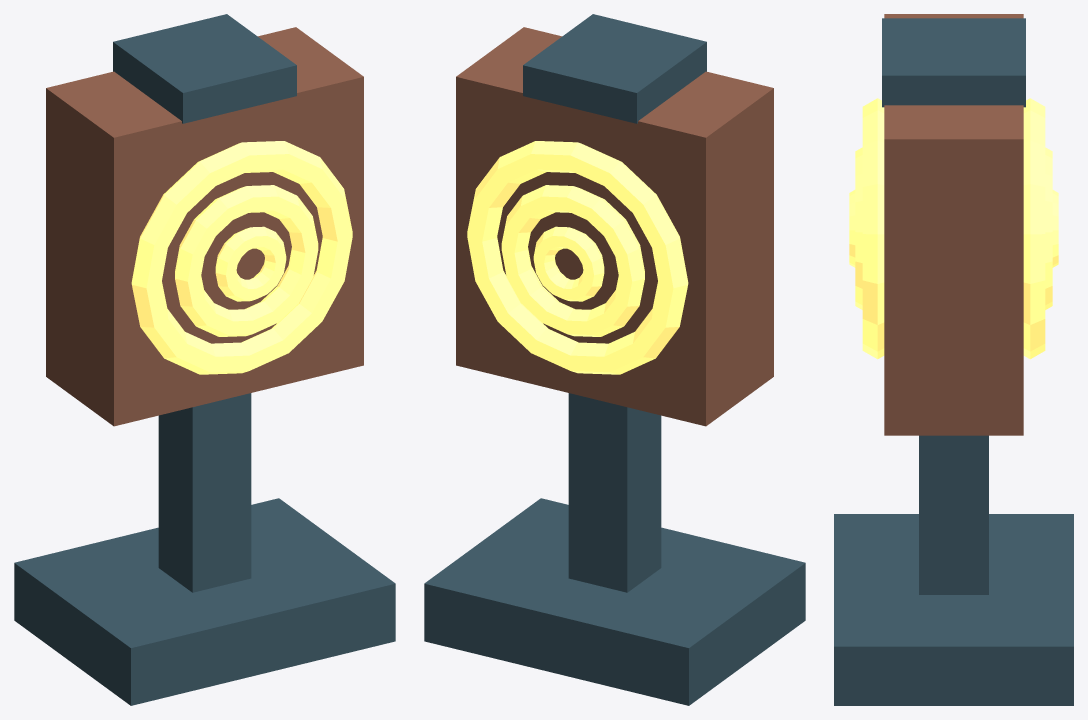
Rendered from practice_dummy.glb.
3 views of the same model, side by side, from view 1: azimuth 30°, elevation 25°; view 2: azimuth 150°, elevation 25°; view 3: azimuth 270°, elevation 25° (orthographic). The views are drawn at different scales.
Visible parts, largest first — view 1: Target pad, Pedestal, Target ring, Spring post, Top marker, Target ring.001, Target ring.002; view 2: Target pad, Pedestal, Target ring.003, Spring post, Top marker, Target ring.004, Target ring.005; view 3: Target pad, Pedestal, Top marker, Spring post, Target ring, Target ring.003, Target ring.001, Target ring.004, Target ring.002, Target ring.005.
Boxes of the visible parts, x1,y1,x2,y2 form: Target pad: [46, 27, 363, 426]; Pedestal: [14, 498, 395, 705]; Target ring: [131, 141, 352, 374]; Spring post: [158, 393, 251, 592]; Top marker: [113, 14, 296, 123]; Target ring.001: [175, 185, 318, 336]; Target ring.002: [215, 226, 286, 301]; Target pad: [456, 27, 773, 426]; Pedestal: [424, 498, 805, 705]; Target ring.003: [467, 141, 688, 374]; Spring post: [568, 393, 661, 592]; Top marker: [523, 14, 706, 123]; Target ring.004: [501, 185, 644, 336]; Target ring.005: [533, 226, 604, 301]; Target pad: [884, 14, 1023, 435]; Pedestal: [834, 514, 1073, 705]; Top marker: [882, 18, 1025, 107]; Spring post: [919, 435, 988, 594]; Target ring: [862, 98, 884, 359]; Target ring.003: [1023, 98, 1045, 359]; Target ring.001: [855, 147, 862, 309]; Target ring.004: [1045, 147, 1052, 309]; Target ring.002: [849, 190, 855, 267]; Target ring.005: [1052, 190, 1058, 267].
Size of the model in its own units: 0.72 by 1.5 by 0.55.
